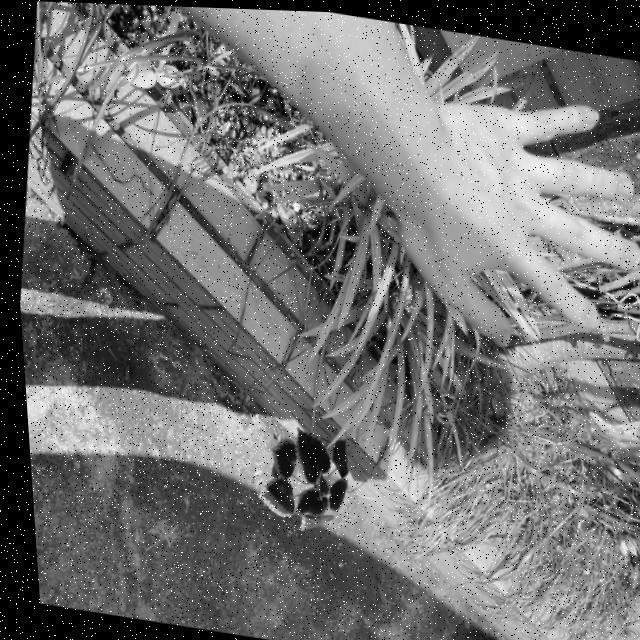no-gloves: (375, 68, 640, 366)
